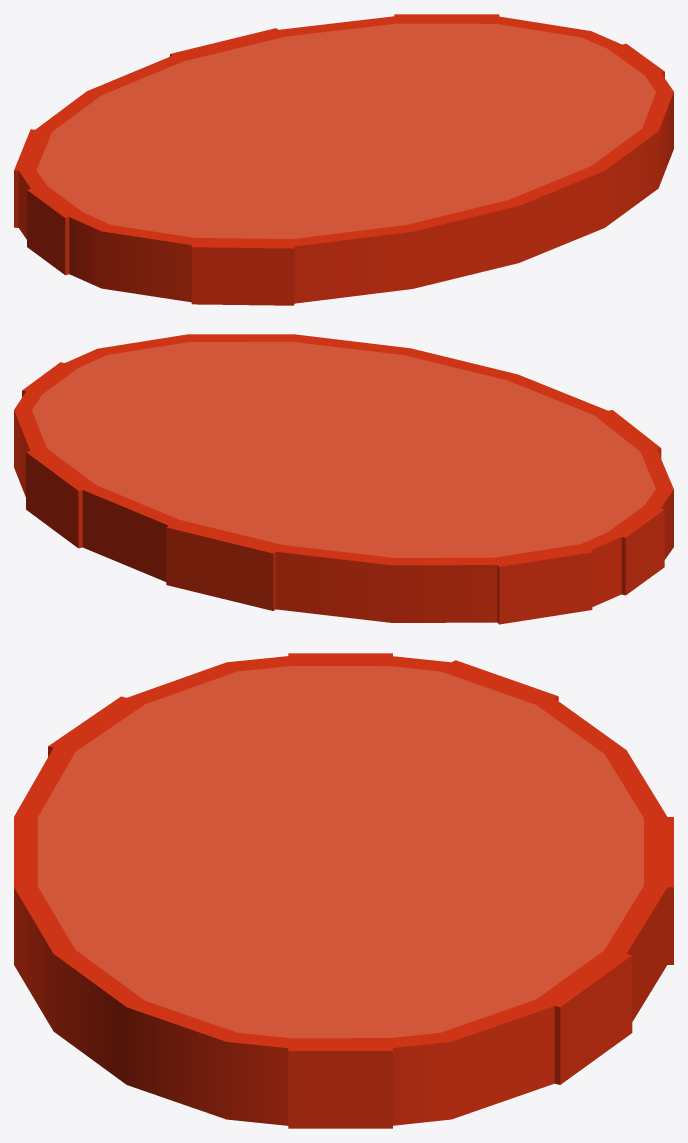
The model's file is floor lp.FBX.
The picture shows the model from 3 angles, top to bottom: view 1: azimuth 30°, elevation 25°; view 2: azimuth 150°, elevation 25°; view 3: azimuth 270°, elevation 25°; orthographic projection. The views are drawn at different scales.
Visible parts, largest first — view 1: 2e floor lp; view 2: 2e floor lp; view 3: 2e floor lp.
Boxes of the visible parts, x1,y1,x2,y2 form: 2e floor lp: (14,14,673,305); 2e floor lp: (14,334,673,624); 2e floor lp: (14,653,673,1128).
Bounding box in the file's own units: 7179 × 654 × 5035.
